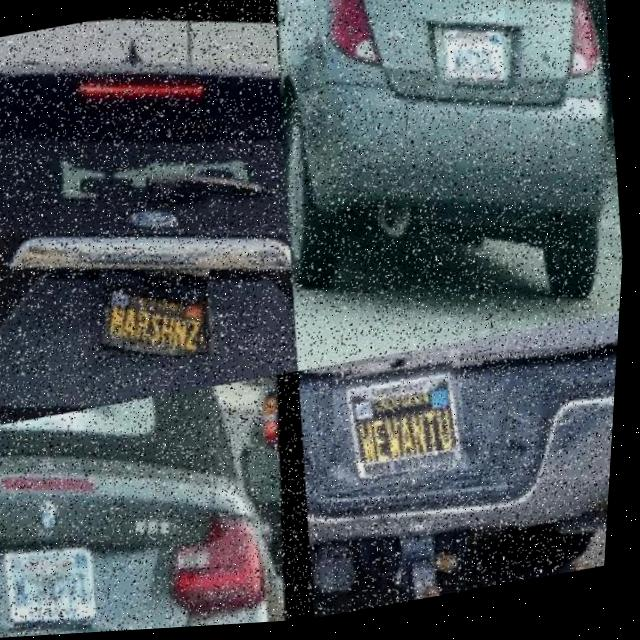LicensePlate: (330, 352, 479, 498), (0, 523, 107, 639), (96, 271, 210, 358), (432, 13, 513, 95)
